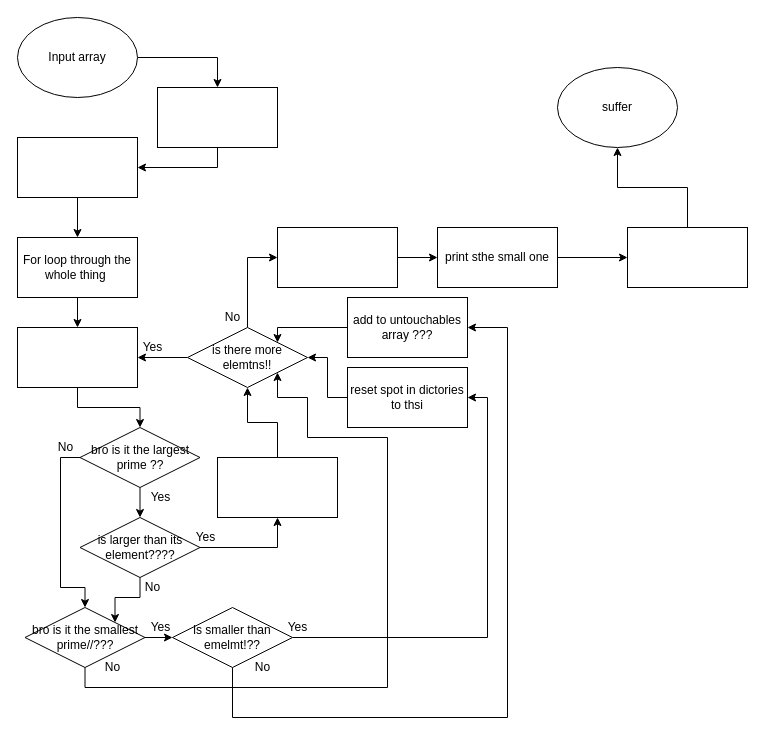
The diagram is 765 pixels wide and 743 high, and some of its shapes have lost their labels. The shapes that lost their labels are listed below. From the top down, each one's centre as x and y in pixels, then its label:
(x=217, y=117): make a dictionary two dictionary for keeping track
(x=77, y=167): make array to keep track of the "unwanted"
(x=337, y=257): prnt the largge once
(x=687, y=257): print eh rest
(x=77, y=357): garb next item
(x=277, y=487): reset dictionaries to stthis
